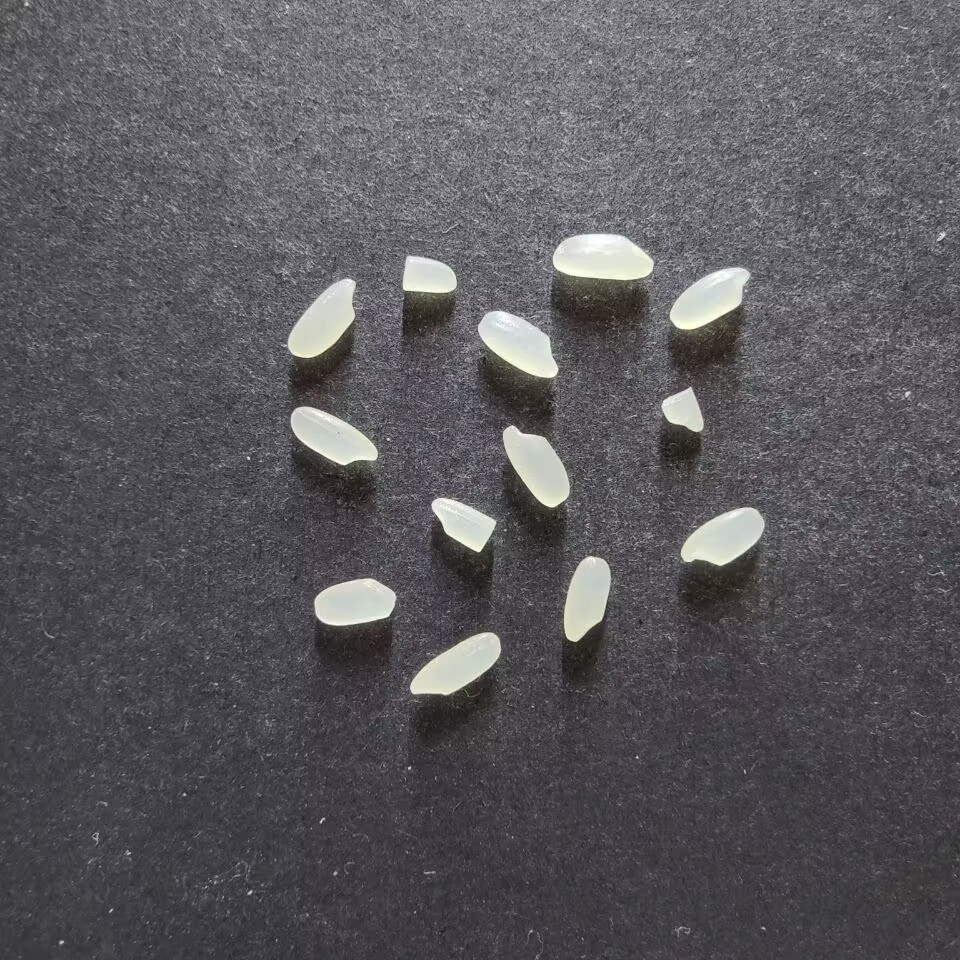broken: (430, 497, 498, 554), (400, 255, 457, 294), (661, 387, 703, 433)
rice: (407, 631, 501, 696), (501, 424, 571, 508), (286, 277, 356, 358), (477, 310, 559, 379), (289, 405, 379, 465), (669, 266, 750, 330), (680, 507, 765, 567), (551, 233, 654, 280), (563, 555, 611, 643), (312, 578, 396, 626)
